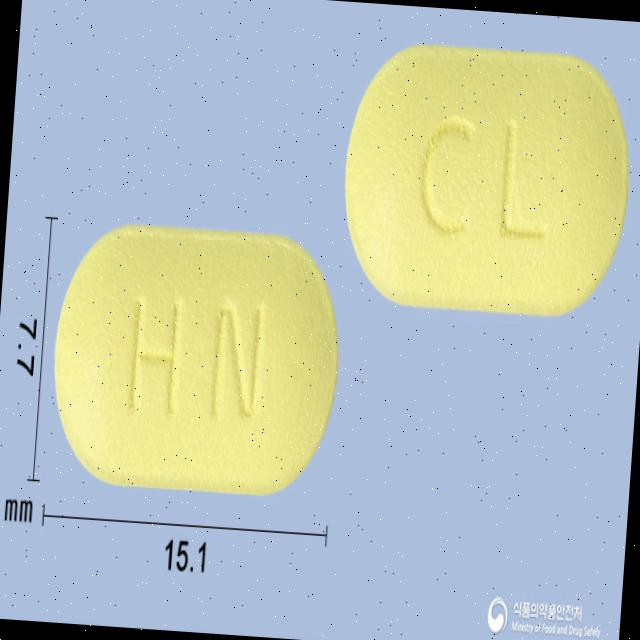Cyclin: (334, 36, 640, 326), (42, 213, 348, 498)
